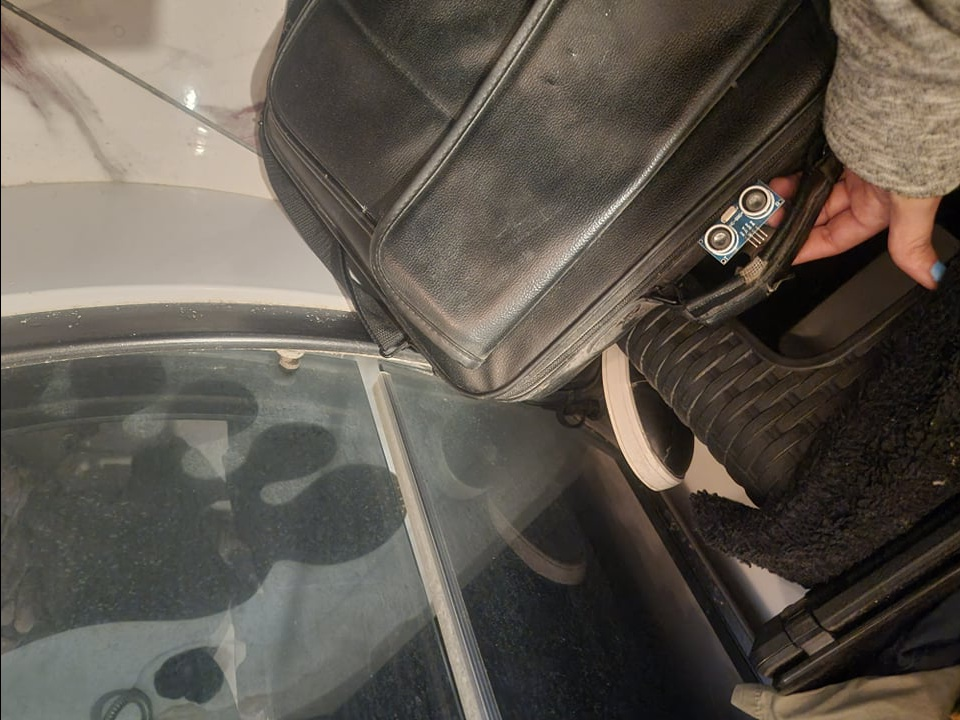SENSOR: (698, 180, 788, 266)
